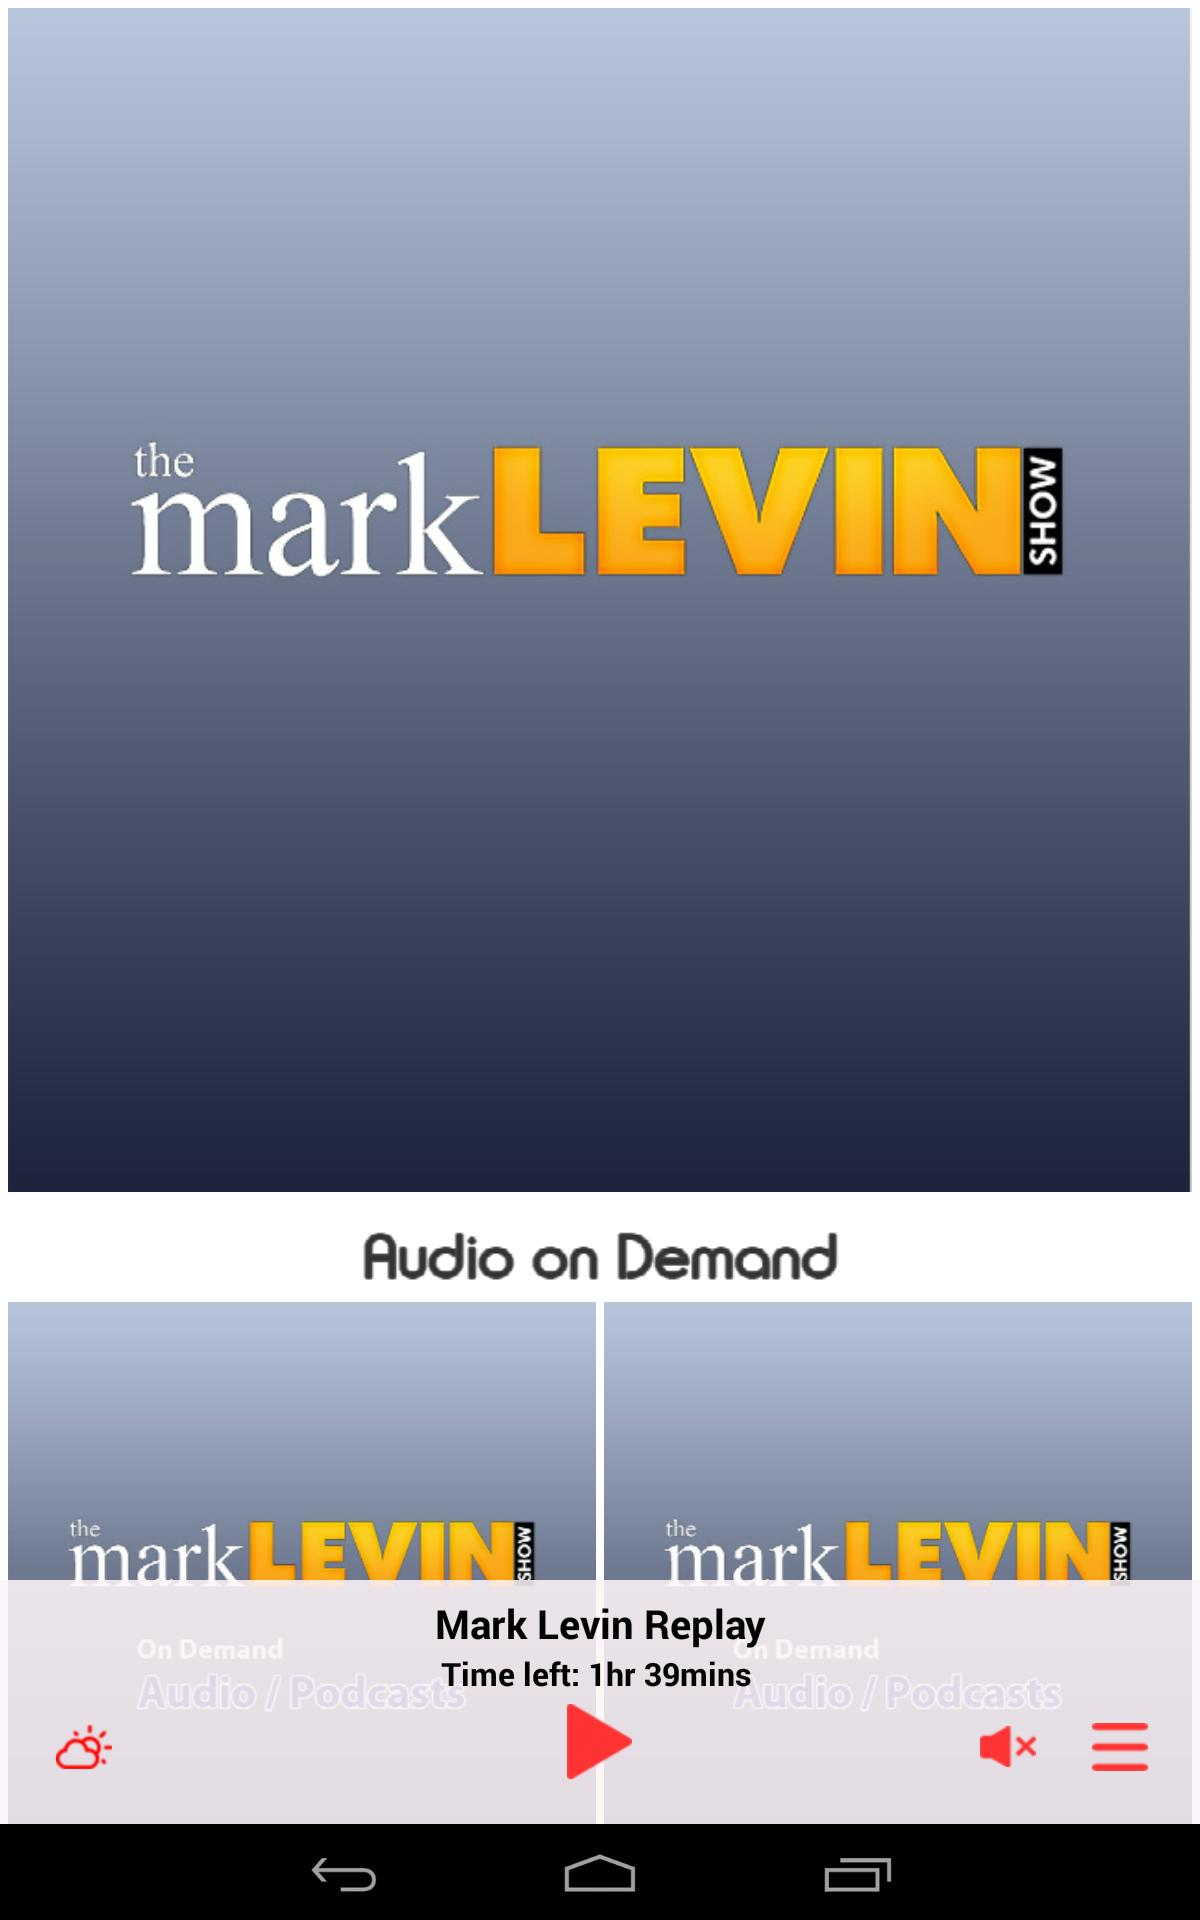android.widget.FrameLayout: (0, 0, 1200, 1825)
android.widget.ImageView: (8, 0, 1192, 1200), (8, 1302, 596, 1894), (604, 1302, 1192, 1894), (8, 1207, 1192, 1295), (549, 1704, 650, 1779), (980, 1722, 1035, 1771), (1092, 1722, 1147, 1771), (57, 1722, 112, 1771)
android.widget.LinearLayout: (0, 0, 1200, 1825), (0, 1294, 1192, 1894)
android.widget.RelativeLayout: (0, 0, 1200, 1825), (0, 0, 1200, 1200), (0, 1294, 1200, 1894), (0, 1294, 596, 1894), (596, 1294, 1192, 1894), (0, 1580, 1200, 1825), (0, 1380, 1200, 1580), (0, 1198, 1200, 1295), (0, 1592, 1200, 1689), (0, 1704, 1200, 1790), (0, 1704, 1172, 1790), (259, 1597, 941, 1700), (0, 1592, 200, 1689), (1000, 1592, 1200, 1689), (28, 1704, 135, 1790), (957, 1704, 1060, 1790), (1069, 1704, 1172, 1790), (33, 1704, 135, 1790), (549, 1704, 650, 1779)
android.widget.TextView: (8, 1207, 1192, 1295), (259, 1597, 941, 1660), (259, 1652, 941, 1700)
